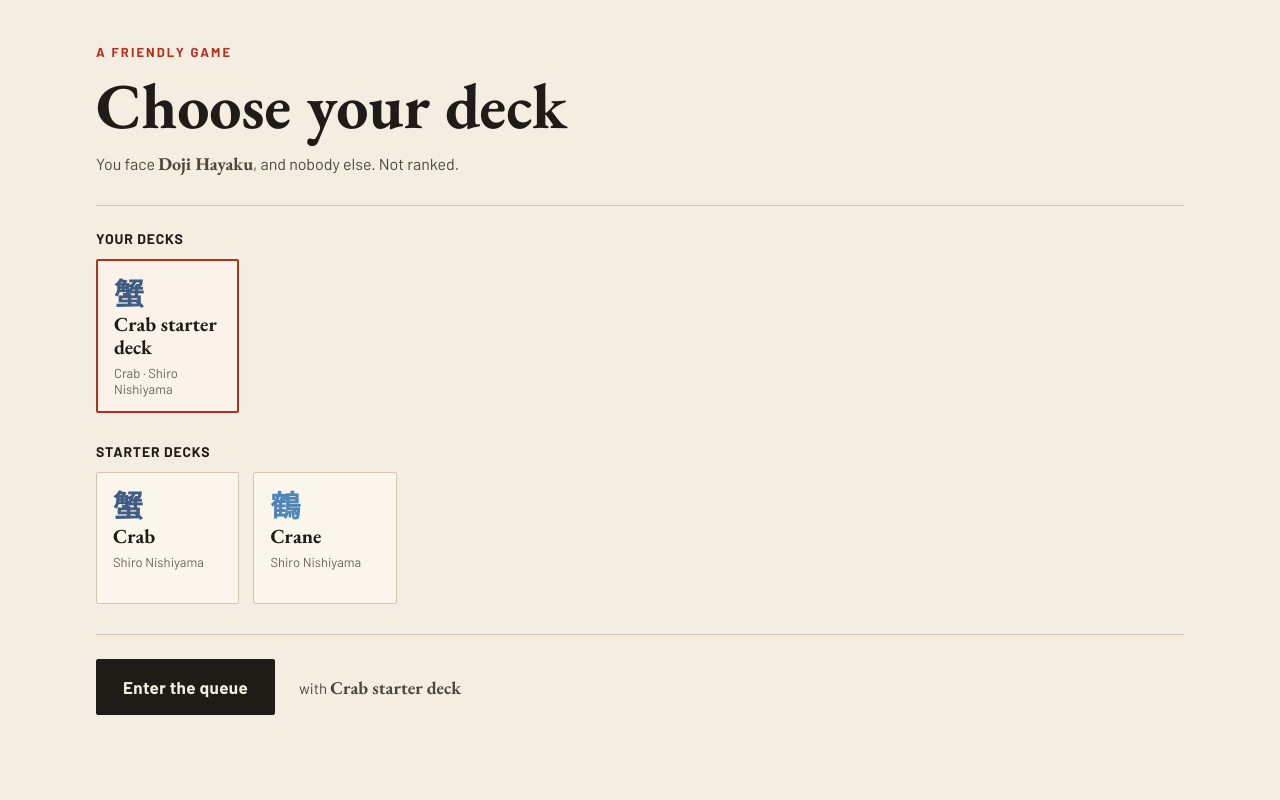
Test case: QueueView › enters the queue with the code of a friend
Click the button "Enter the queue" at coordinates (186, 687), box [96,659,275,715]
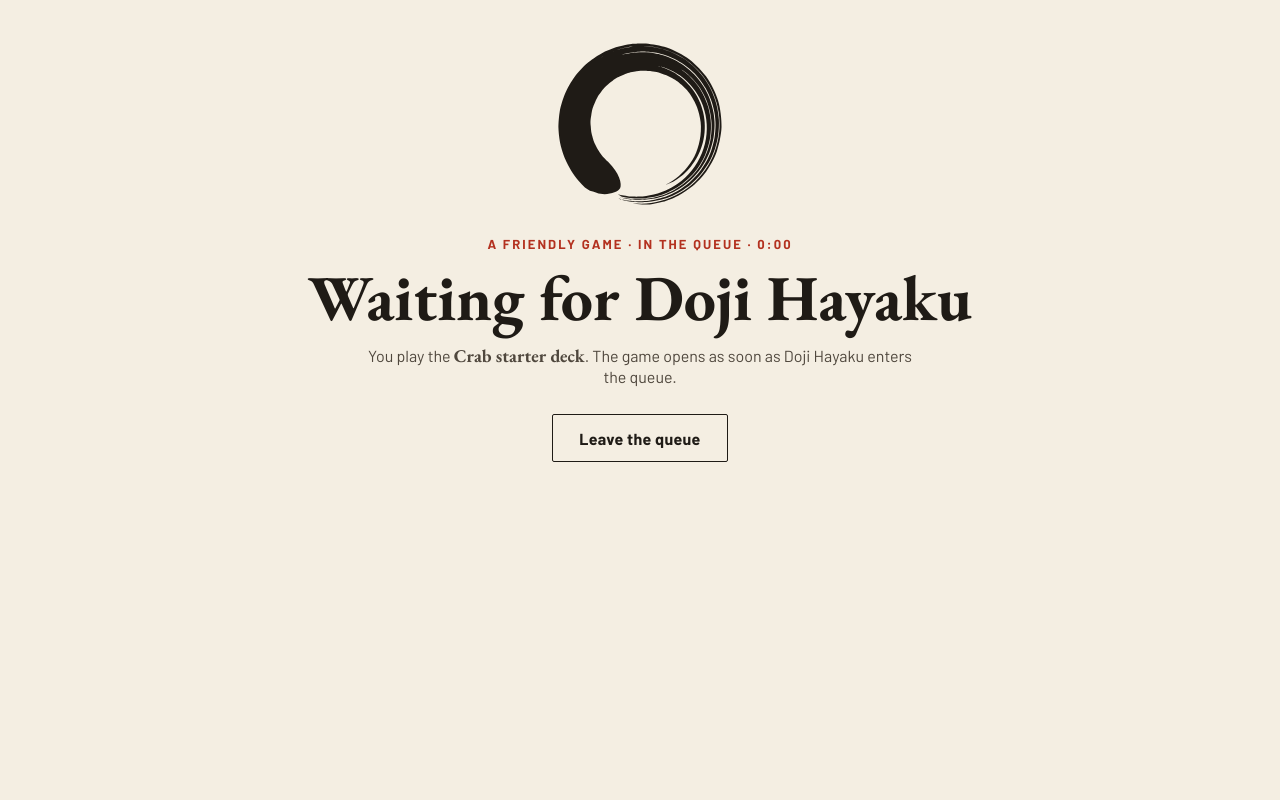
expect the element with class "waiting" shows "Waiting for Doji Hayaku": met, box [308,256,972,339]
